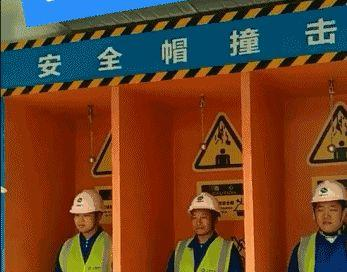helmet: (311, 177, 347, 208), (70, 191, 106, 218), (187, 191, 222, 216)
